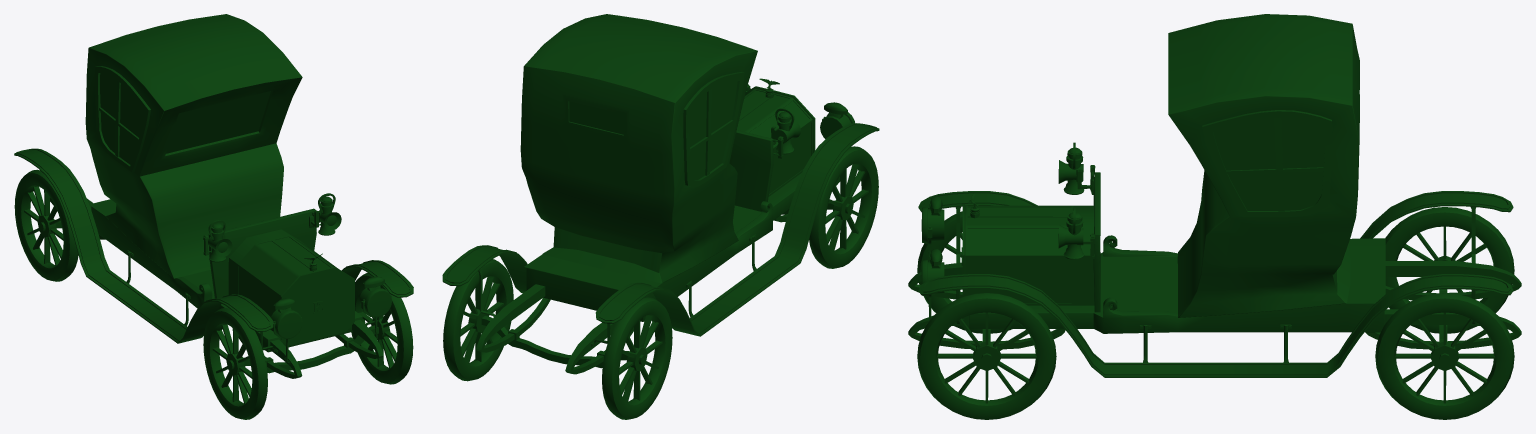
The model's file is rochet_schneider.fbx.
The picture shows the model from 3 angles, left to right: view 1: azimuth 30°, elevation 25°; view 2: azimuth 150°, elevation 25°; view 3: azimuth 270°, elevation 25°; orthographic projection. The views are drawn at different scales.
Visible parts, largest first — view 1: Rochet schneider 1909; view 2: Rochet schneider 1909; view 3: Rochet schneider 1909.
Part boxes in pixels (x1,y1,x2,y2): Rochet schneider 1909: (14,14,413,419); Rochet schneider 1909: (442,14,879,419); Rochet schneider 1909: (908,14,1521,419).
Bounding box in the file's own units: 0.0831 × 0.1307 × 0.2221.
